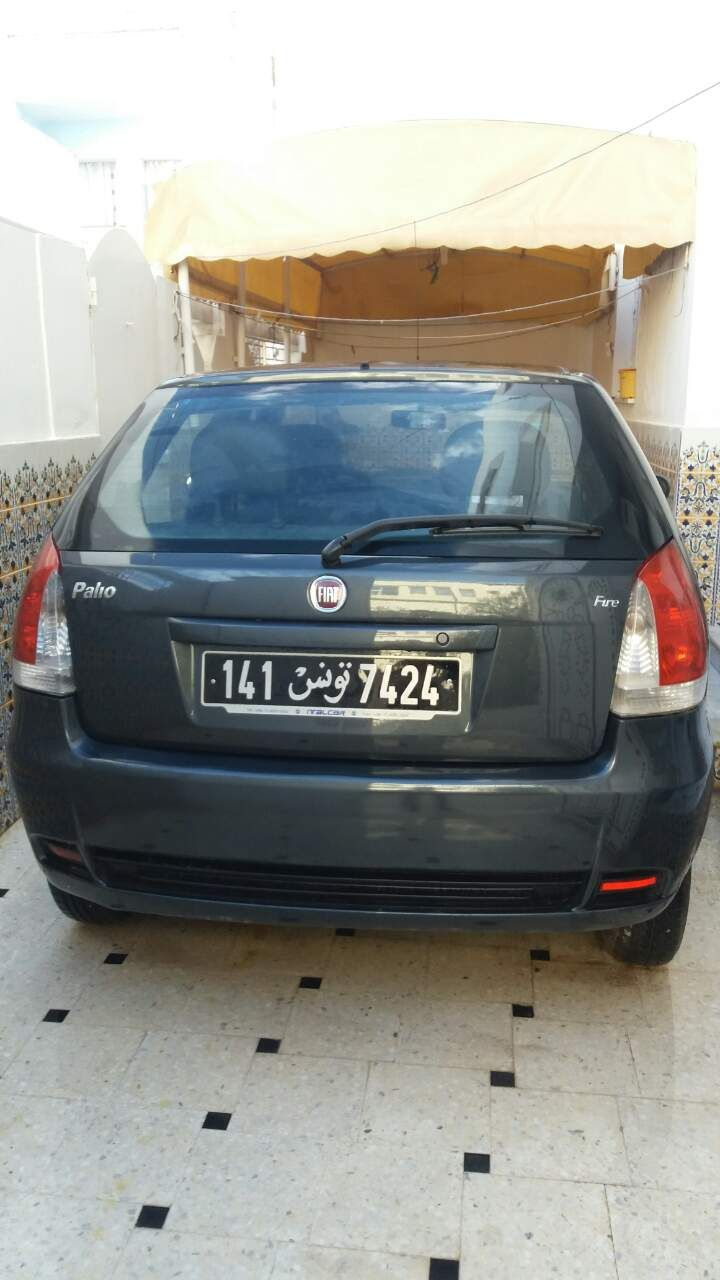LP: (200, 649, 464, 721)
